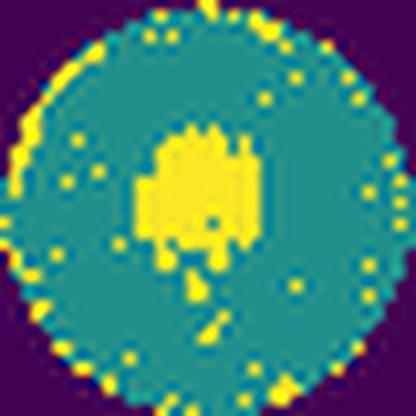Center: (131, 125, 266, 270)
